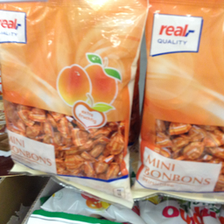candy: (1, 2, 135, 182), (140, 3, 223, 204)
